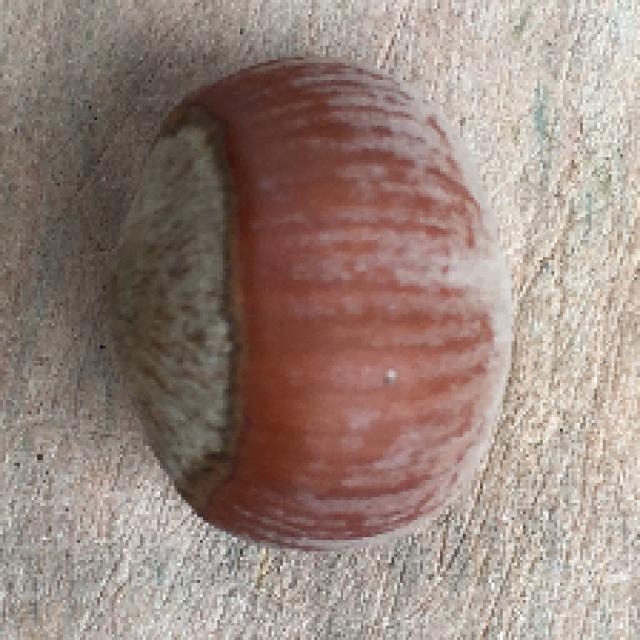qualityHazelnut: (110, 51, 523, 559)
